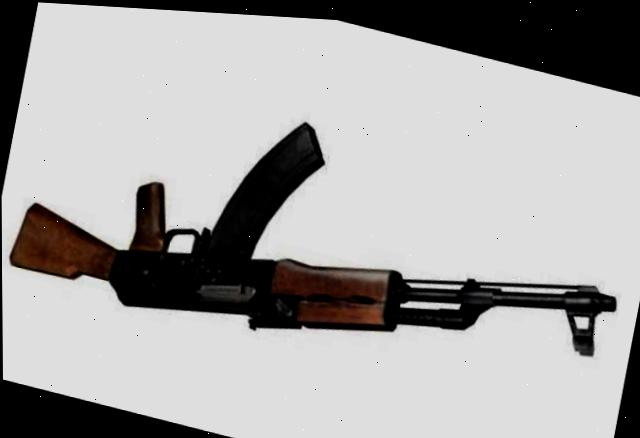rifle: (0, 21, 640, 438)
